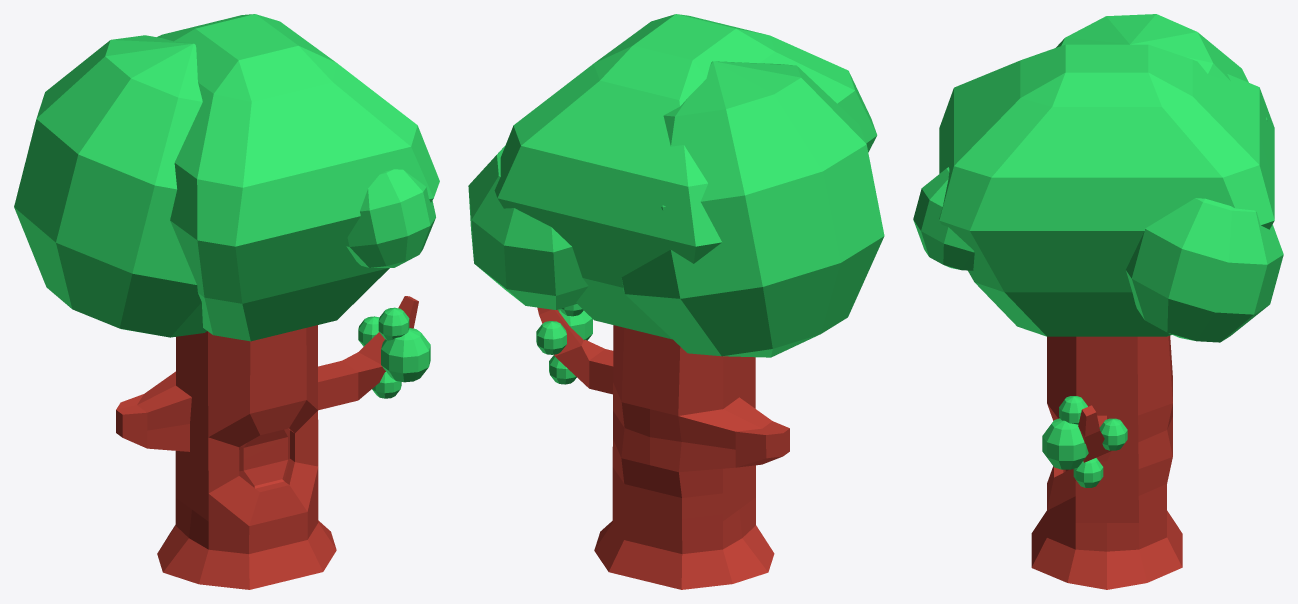
The model's file is Tree.fbx.
The picture shows the model from 3 angles, left to right: view 1: azimuth 30°, elevation 25°; view 2: azimuth 150°, elevation 25°; view 3: azimuth 270°, elevation 25°; orthographic projection. The views are drawn at different scales.
Parts seen in each view (by area): view 1: Tree; view 2: Tree; view 3: Tree.
Boxes of the visible parts, x1,y1,x2,y2 form: Tree: (14, 14, 439, 589); Tree: (468, 14, 884, 589); Tree: (913, 14, 1283, 589).
Size of the model in its own units: 1.75 by 2.57 by 1.86.
